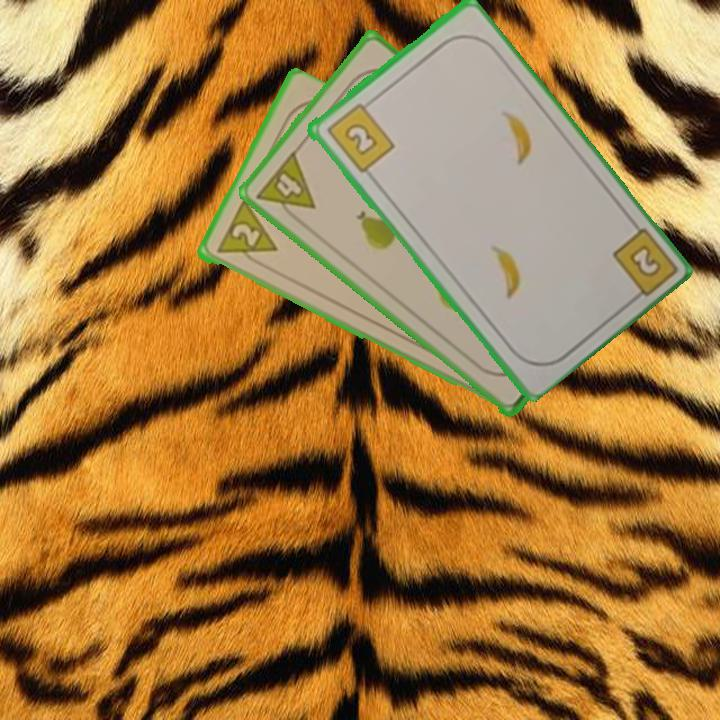2b: (322, 96, 397, 176), (608, 223, 677, 307)
2p: (211, 198, 280, 270)
4p: (252, 147, 318, 228)
